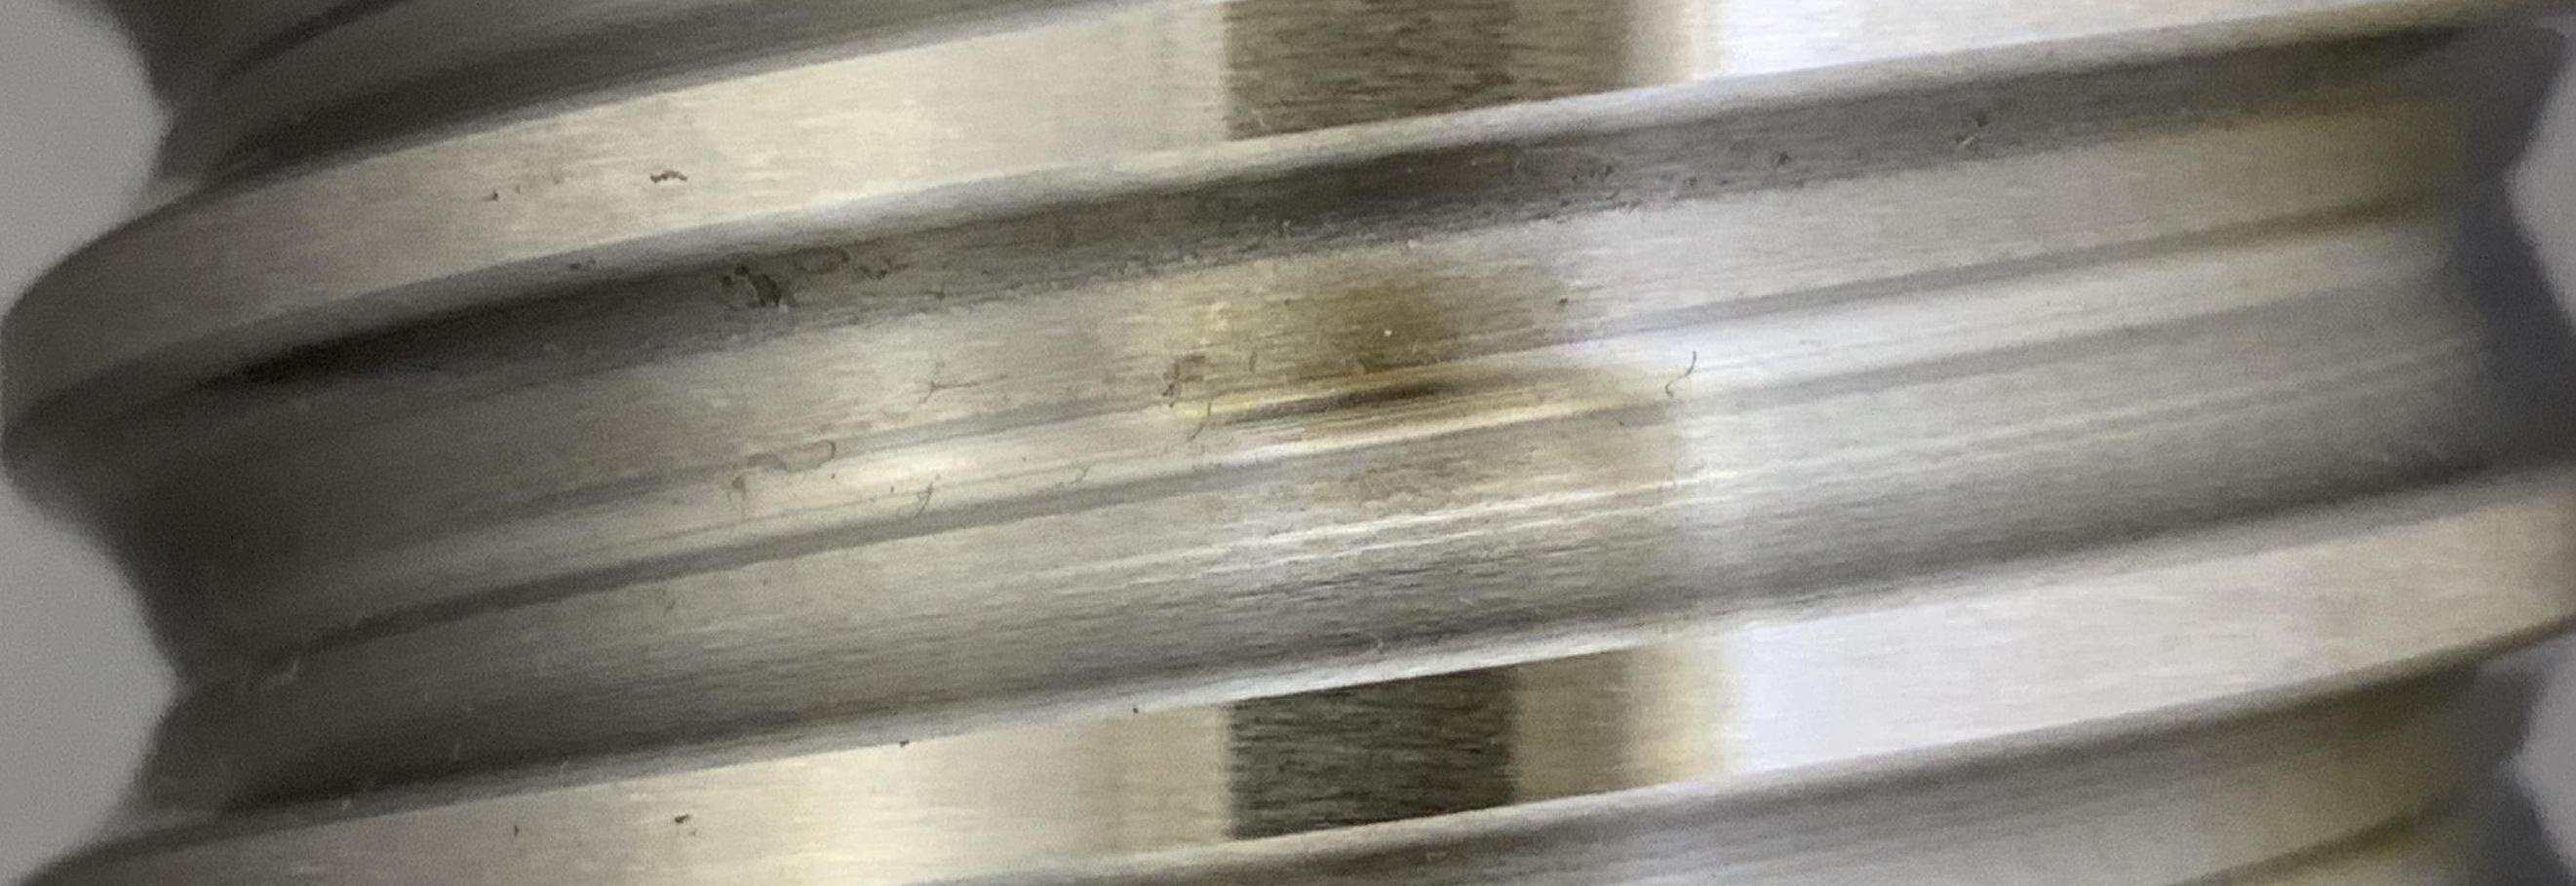pitting: (733, 265, 782, 309)
